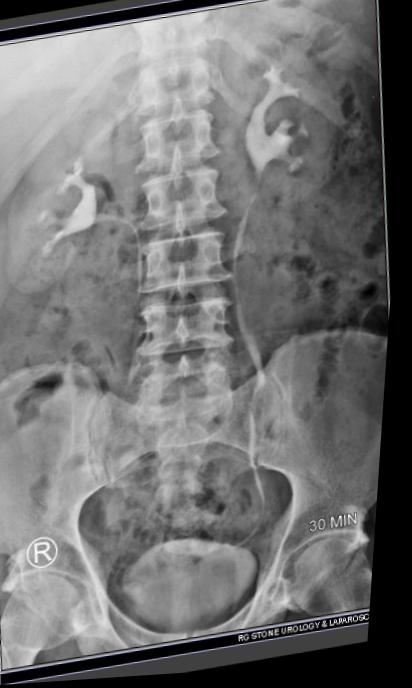bladder: (106, 535, 279, 673)
left kidney: (206, 10, 359, 226)
right kidney: (0, 93, 133, 309)
vertebrae: (126, 102, 226, 180)
